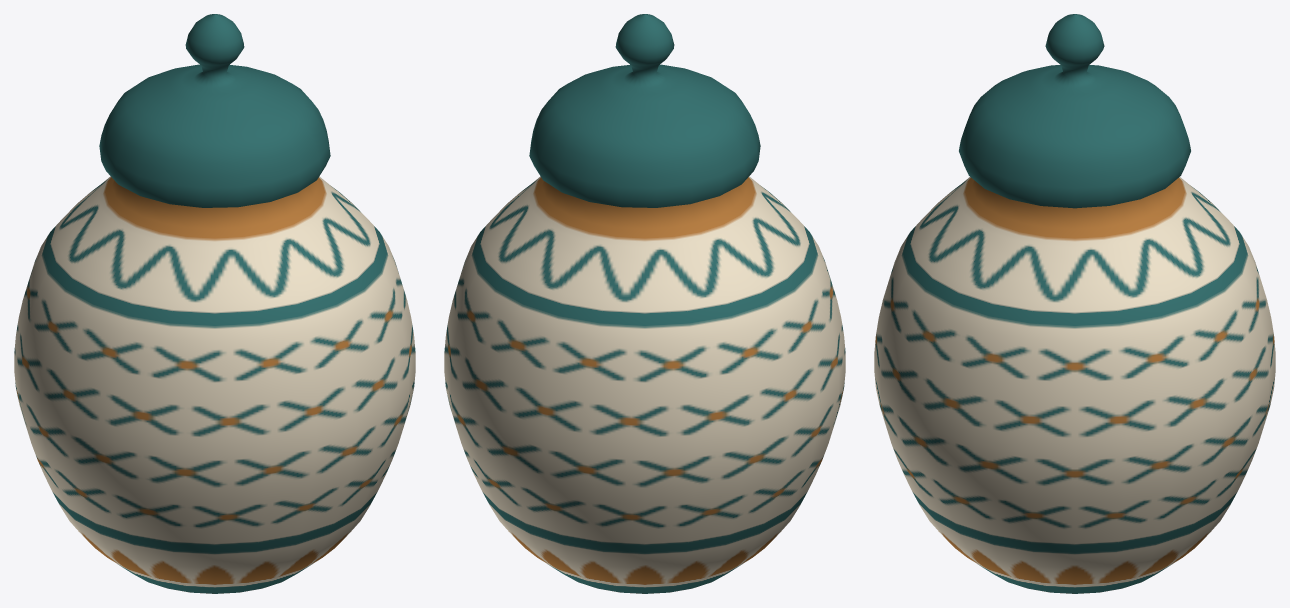
File: prop-jar.glb
3 views of the same model, side by side, from view 1: azimuth 30°, elevation 25°; view 2: azimuth 150°, elevation 25°; view 3: azimuth 270°, elevation 25° (orthographic).
Parts seen in each view (by area): view 1: piece_PaintedJar, piece_CeramicTeal; view 2: piece_PaintedJar, piece_CeramicTeal; view 3: piece_PaintedJar, piece_CeramicTeal.
Boxes of the visible parts, x1,y1,x2,y2 form: piece_PaintedJar: [14, 176, 415, 593]; piece_CeramicTeal: [99, 14, 330, 207]; piece_PaintedJar: [444, 176, 845, 593]; piece_CeramicTeal: [529, 14, 760, 207]; piece_PaintedJar: [874, 177, 1275, 593]; piece_CeramicTeal: [959, 14, 1190, 208].
Size of the model in its own units: 0.1908 by 0.283 by 0.1908.
Materials: 2 (1 with a texture image).
